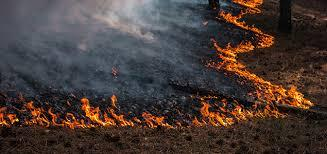fire: (0, 82, 314, 130), (207, 0, 312, 111)
yanwu: (0, 0, 209, 95)
